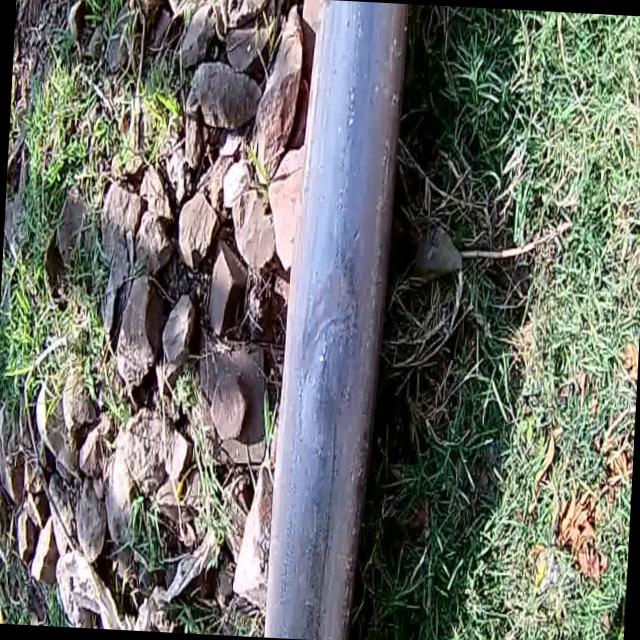Squats: (258, 242, 403, 490)
